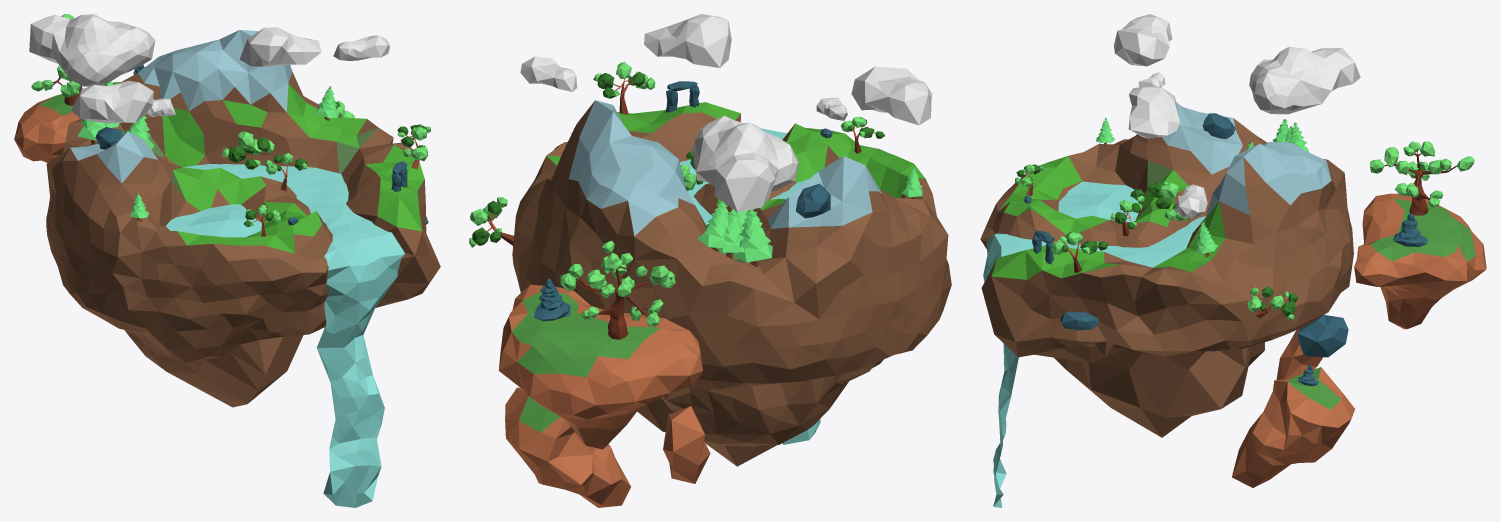
The model's file is Island3.glb.
The picture shows the model from 3 angles, left to right: view 1: azimuth 30°, elevation 25°; view 2: azimuth 150°, elevation 25°; view 3: azimuth 270°, elevation 25°; orthographic projection. The views are drawn at different scales.
Visible parts, largest first — view 1: Icosphere_27, Plane.001_0, Clouds_26, Icosphere.002_13, Icosphere.001_12, Tree.001_11, BigTreeLeafs_7, Tree.003_24, Tree.002_23; view 2: Icosphere_27, Icosphere.002_13, Clouds_26, Icosphere.003_14, BigTreeLeafs_7, Icosphere.004_15, Plane.005_3, Tree.001_11, BigTree_8, Tree.004_25, Plane.001_0, RockTree_28 (+4 smaller); view 3: Icosphere_27, Clouds_26, Icosphere.002_13, Icosphere.003_14, Plane.001_0, BigTreeLeafs_7, Rock.003_19, Icosphere.004_15, Tree.004_25, Icosphere.001_12, Tree.001_11, BigTree_8 (+3 smaller).
Boxes of the visible parts, bbox=[...] form: Icosphere_27: bbox=[46, 30, 440, 407]; Plane.001_0: bbox=[166, 164, 404, 507]; Clouds_26: bbox=[29, 14, 389, 123]; Icosphere.002_13: bbox=[14, 82, 121, 162]; Icosphere.001_12: bbox=[222, 131, 274, 169]; Tree.001_11: bbox=[397, 124, 430, 169]; BigTreeLeafs_7: bbox=[31, 14, 80, 97]; Tree.003_24: bbox=[265, 153, 307, 191]; Tree.002_23: bbox=[244, 204, 280, 236]; Icosphere_27: bbox=[512, 100, 951, 466]; Icosphere.002_13: bbox=[498, 284, 702, 449]; Clouds_26: bbox=[520, 14, 932, 211]; Icosphere.003_14: bbox=[505, 387, 630, 507]; BigTreeLeafs_7: bbox=[560, 241, 675, 326]; Icosphere.004_15: bbox=[663, 406, 710, 483]; Plane.005_3: bbox=[733, 209, 772, 266]; Tree.001_11: bbox=[593, 62, 655, 114]; BigTree_8: bbox=[576, 252, 651, 339]; Tree.004_25: bbox=[469, 197, 513, 247]; Plane.001_0: bbox=[679, 128, 820, 444]; RockTree_28: bbox=[534, 278, 570, 321]; Icosphere_27: bbox=[980, 102, 1353, 437]; Clouds_26: bbox=[1113, 14, 1360, 218]; Icosphere.002_13: bbox=[1354, 193, 1486, 329]; Icosphere.003_14: bbox=[1232, 367, 1355, 487]; Plane.001_0: bbox=[983, 181, 1205, 507]; BigTreeLeafs_7: bbox=[1369, 141, 1474, 207]; Rock.003_19: bbox=[1297, 315, 1348, 357]; Icosphere.004_15: bbox=[1276, 328, 1323, 379]; Tree.004_25: bbox=[1247, 286, 1297, 320]; Icosphere.001_12: bbox=[1130, 181, 1189, 221]; Tree.001_11: bbox=[1050, 232, 1108, 272]; BigTree_8: bbox=[1384, 150, 1456, 215].
Size of the model in its own units: 0.537 by 0.6588 by 0.7271.
